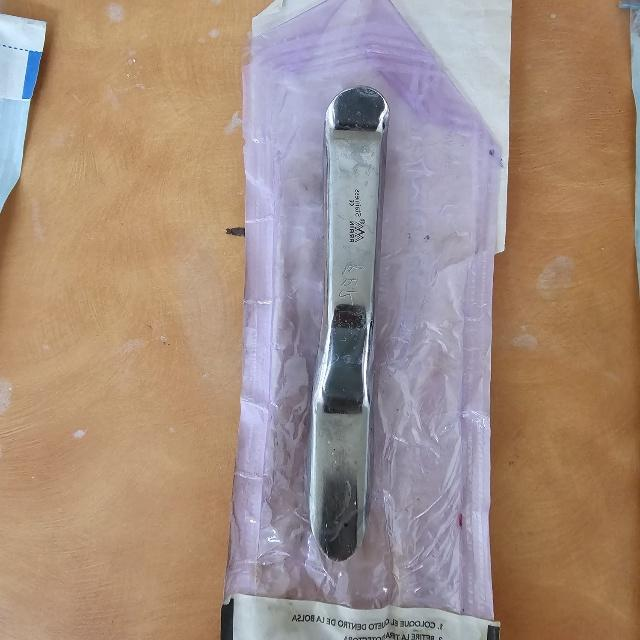separador: (309, 87, 387, 564)
